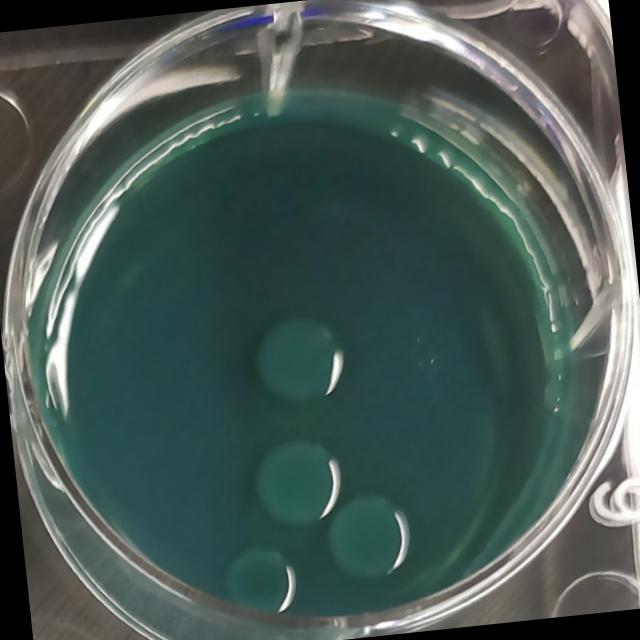vibrio: (232, 302, 356, 422), (241, 428, 351, 538), (315, 488, 419, 592), (203, 531, 306, 626)
